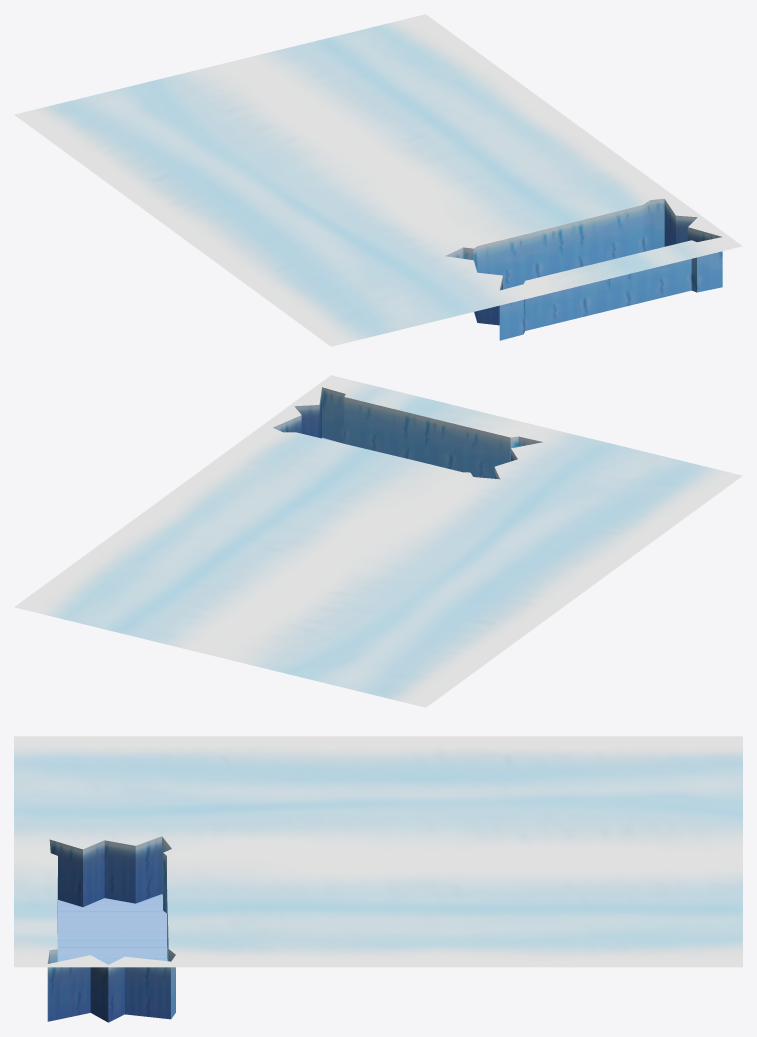
Rendered from Hole_L_S_01_R.FBX.
3 views of the same model, one above another, from view 1: azimuth 30°, elevation 25°; view 2: azimuth 150°, elevation 25°; view 3: azimuth 270°, elevation 25° (orthographic). The views are drawn at different scales.
Parts seen in each view (by area): view 1: Object135; view 2: Object135; view 3: Object135.
Part boxes in pixels (x1,y1,x2,y2): Object135: (14, 14, 742, 346); Object135: (14, 375, 742, 707); Object135: (14, 736, 742, 1022).
Bounding box in the file's own units: 600 × 70 × 800.
